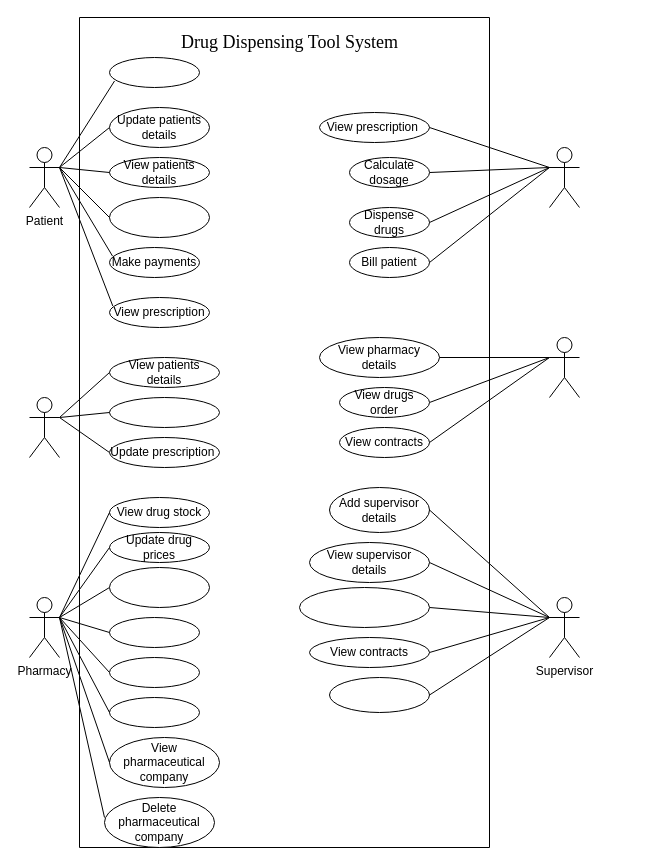
The diagram is 649 pixels wide and 865 high, and some of its shapes have lost their labels. Here are the shapes that lost their labels. From the top down, the centre of each, then its label:
point 154,72: Add patients details
point 564,177: Pharmacist
point 159,217: Delete patients details
point 564,367: Pharmaceutical company
point 44,427: Doctor
point 164,412: Create prescription
point 159,587: Make drug order
point 364,607: Update supervisor details
point 154,632: Create contracts
point 154,672: Update contracts
point 154,712: Delete contract
point 379,694: Authorize contract
